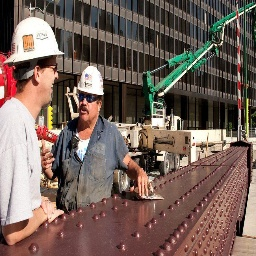helmet: (4, 14, 64, 70), (76, 66, 107, 100)
no-vest: (0, 100, 53, 233), (64, 117, 118, 201)
person: (0, 13, 63, 228), (60, 67, 123, 197)
